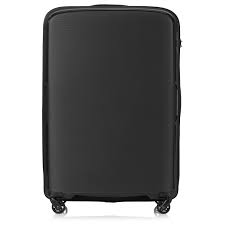suitcase: (39, 1, 183, 217)
